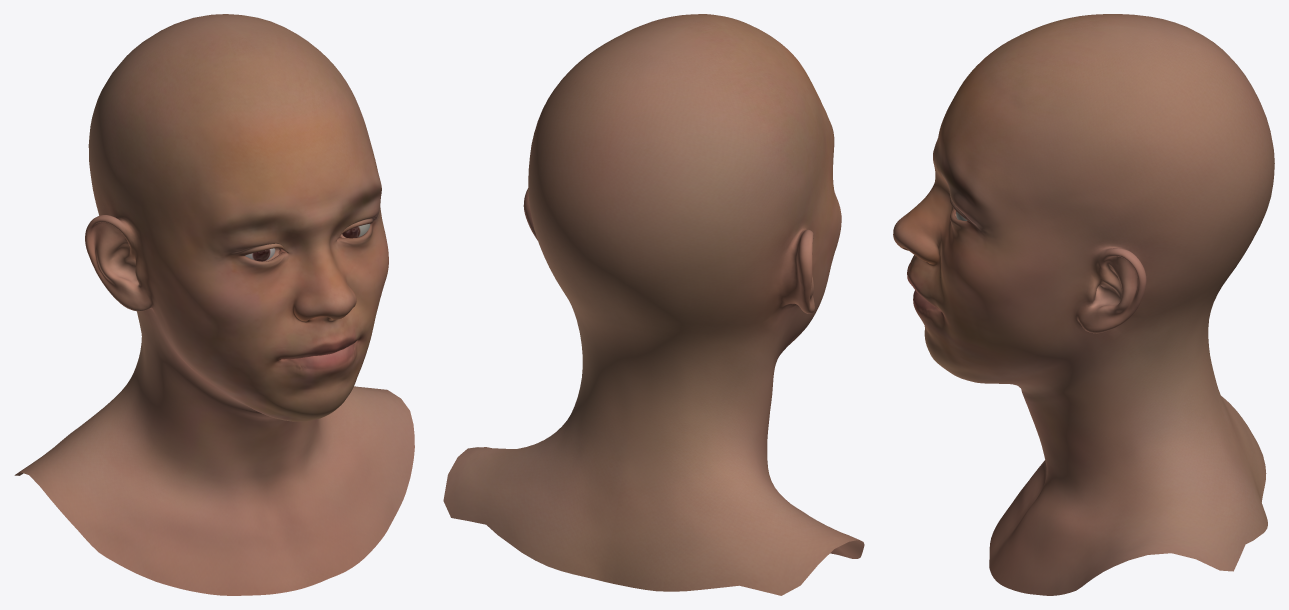
3 views of the same model, side by side, from view 1: azimuth 30°, elevation 25°; view 2: azimuth 150°, elevation 25°; view 3: azimuth 270°, elevation 25° (orthographic). The views are drawn at different scales.
Parts seen in each view (by area): view 1: Registered head; view 2: Registered head; view 3: Registered head.
Part boxes in pixels (x1=…): Registered head: x1=14, y1=14, x2=414, y2=595; Registered head: x1=443, y1=14, x2=864, y2=595; Registered head: x1=893, y1=14, x2=1274, y2=595.
Bounding box in the file's own units: 1.28 × 1.74 × 1.14.
Materials: 3 (3 with a texture image).
